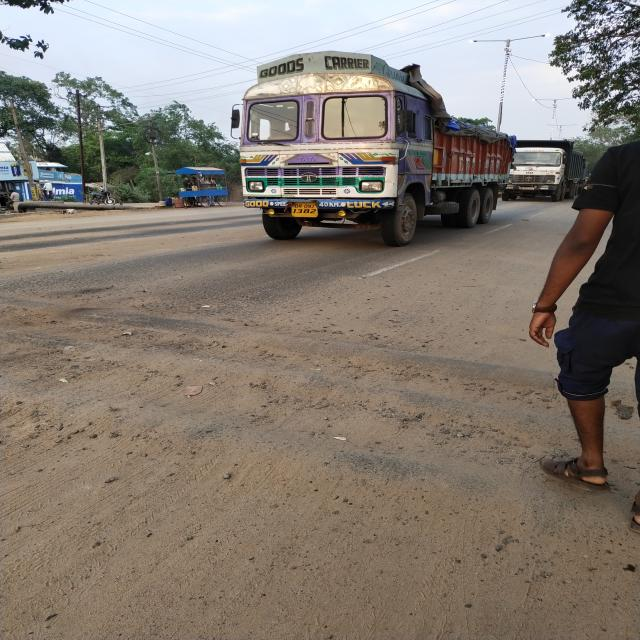Truck: (245, 50, 519, 255), (505, 128, 593, 196)
tempo: (167, 157, 231, 210)
